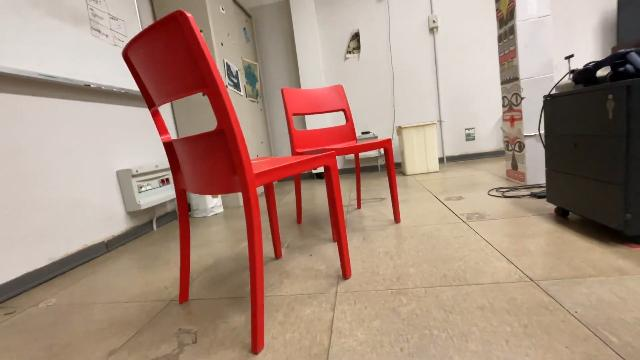Chair: (120, 4, 356, 360), (279, 79, 409, 245)
